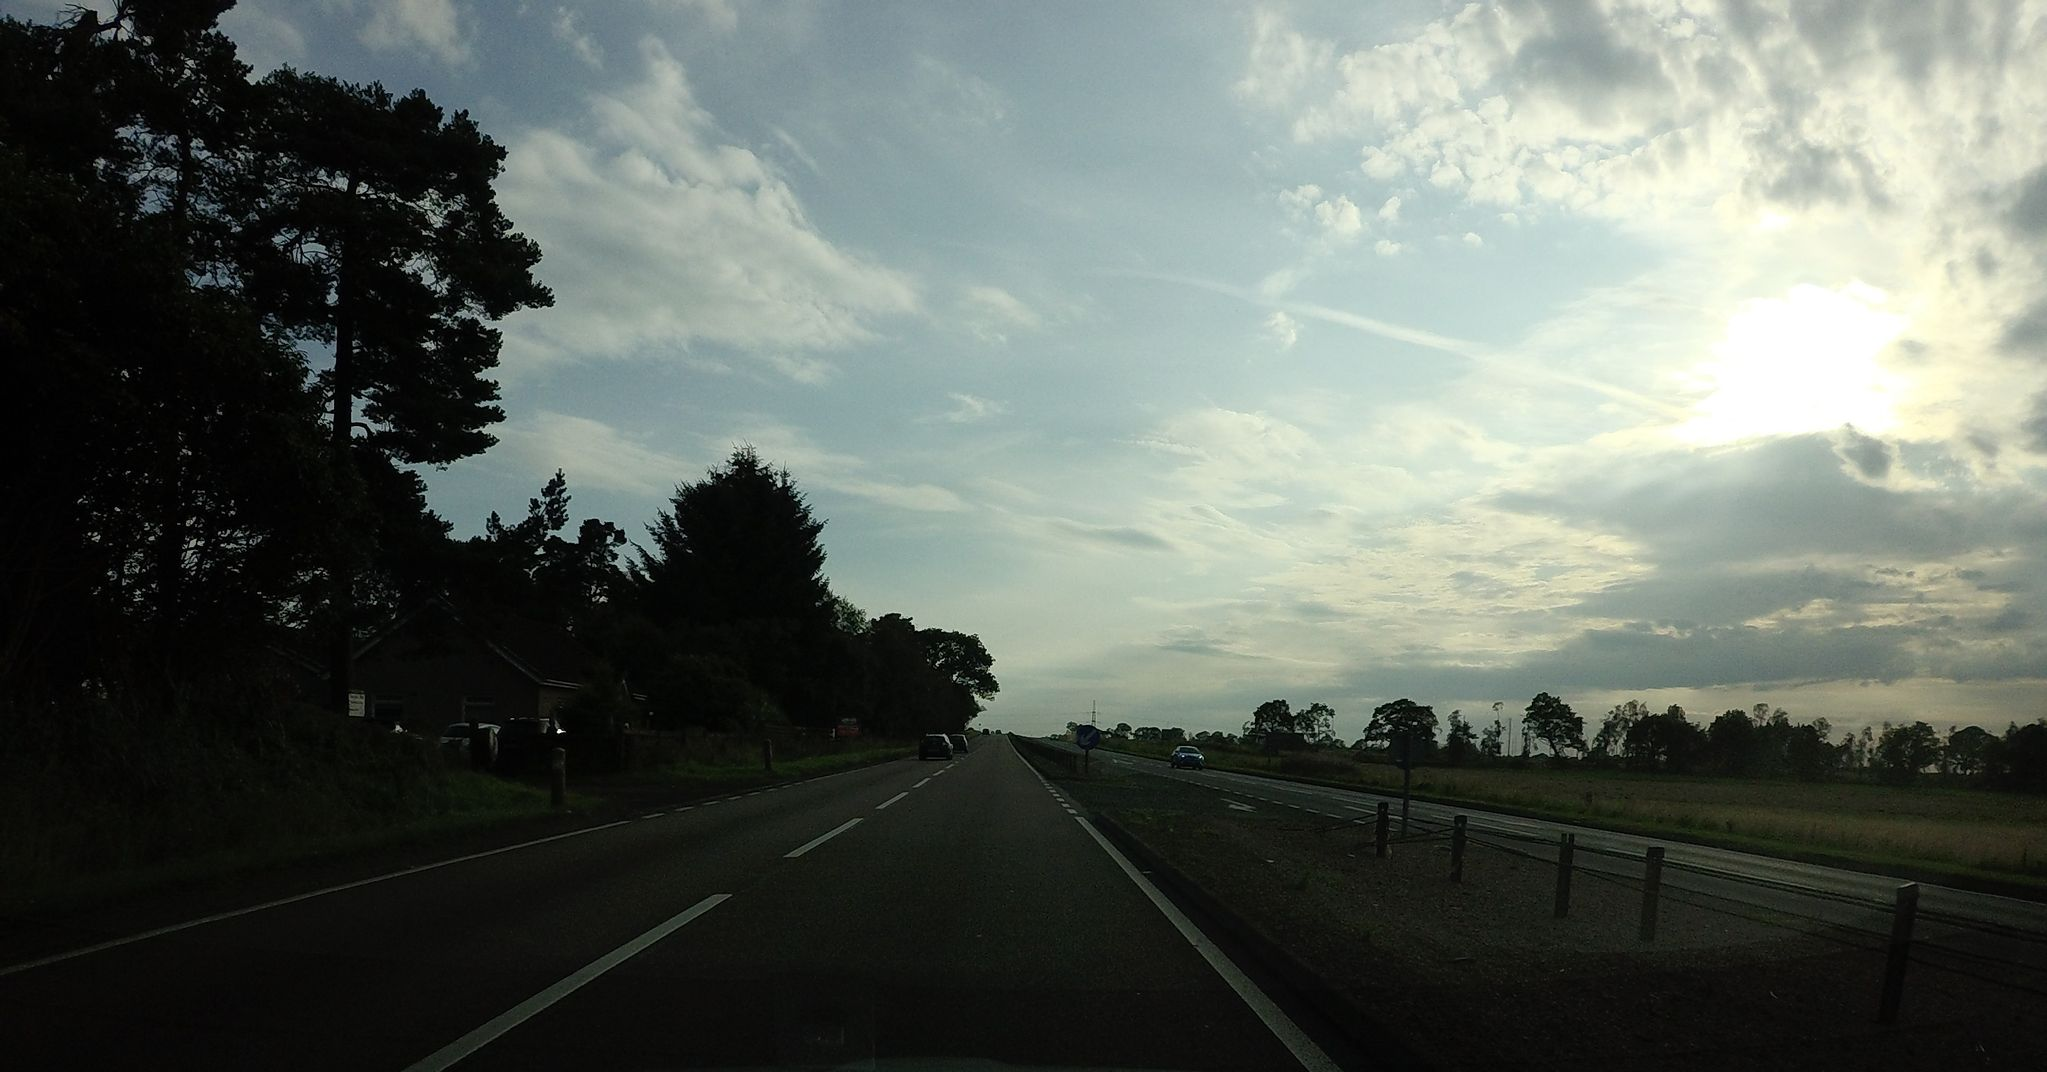car: (917, 732, 953, 759), (1170, 744, 1204, 770), (948, 734, 968, 754)
